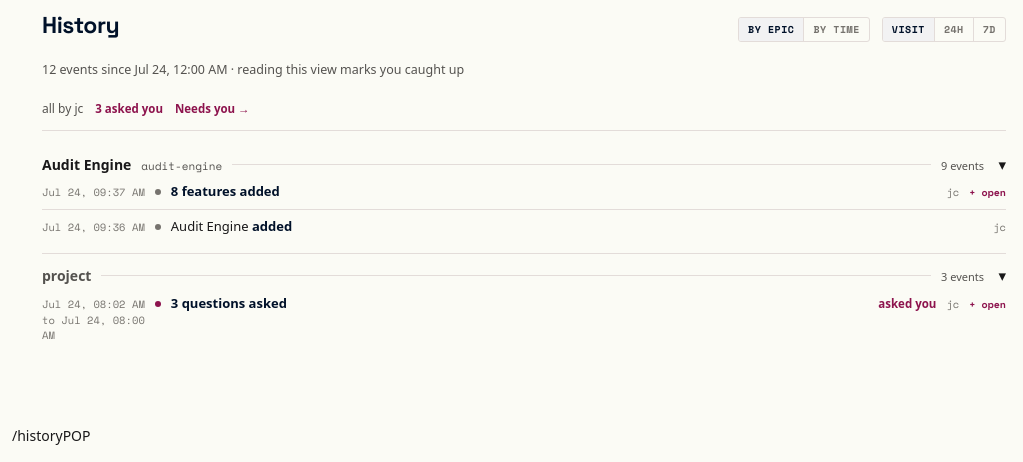
Test: History view: the route and the window › marks the visit-window read, and only that read, as the console's visit
Check: the text "12 events" is shown, box [42,60,464,78]
Click the link "24h".
click(953, 30)  # box [934,18,973,41]
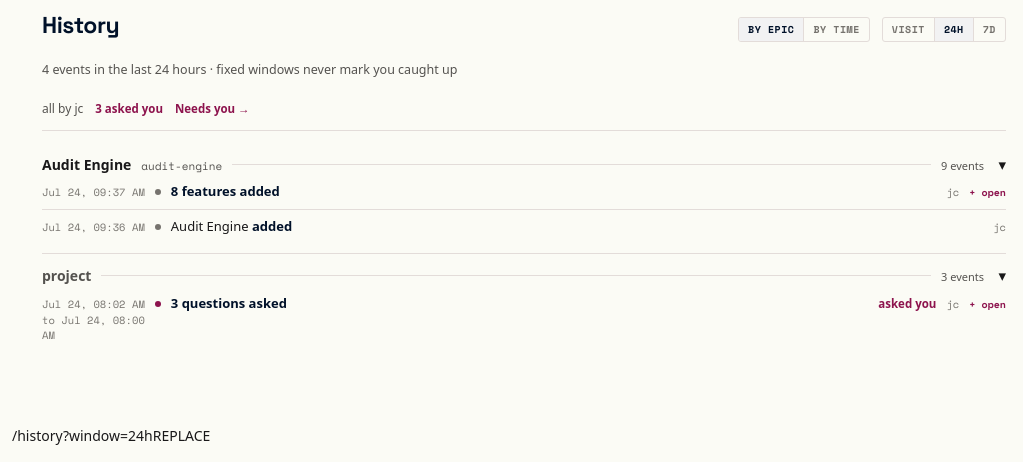
Check: the text "4 events" is shown, box [42,60,458,78]
